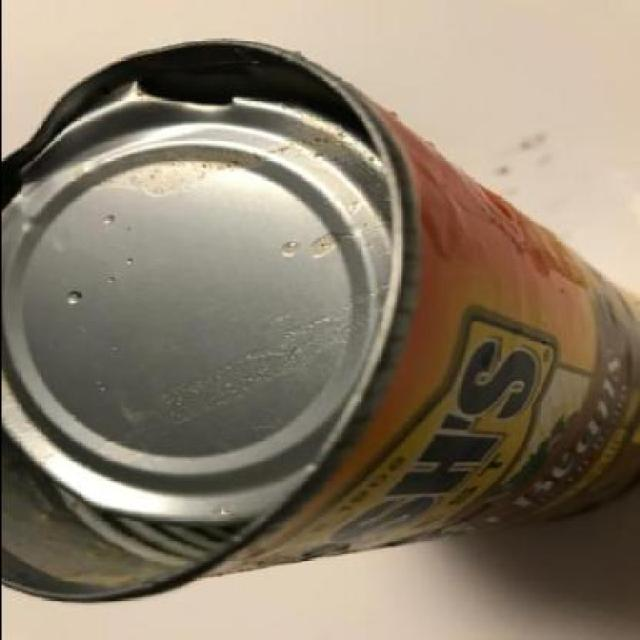METAL: (1, 39, 638, 603)
